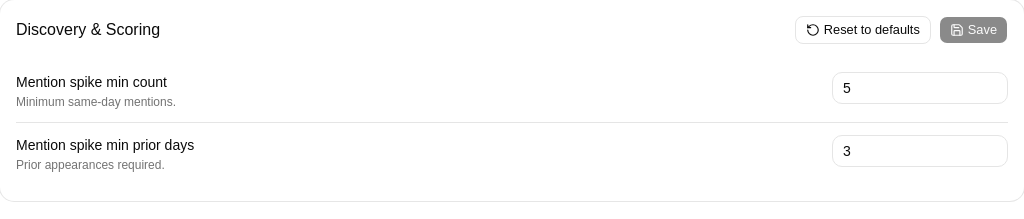
Test: SettingsCategoryForm › save is disabled until something changes
Expected: the button "Save" is disabled, [939,16,1008,44]
Replace the text in the number field labelled "Mention spike min count" with "9" at (920, 88), box [832,72,1008,104]
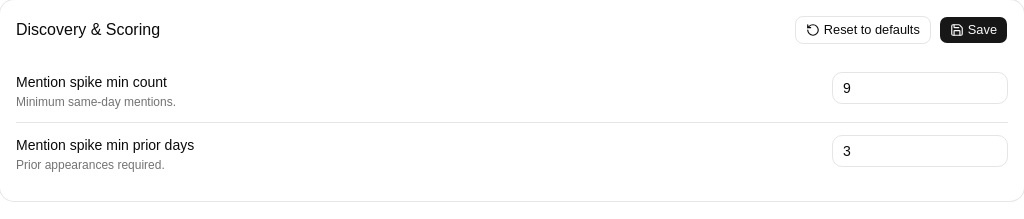
Result: the button "Save" is enabled at [939,16,1008,44]
